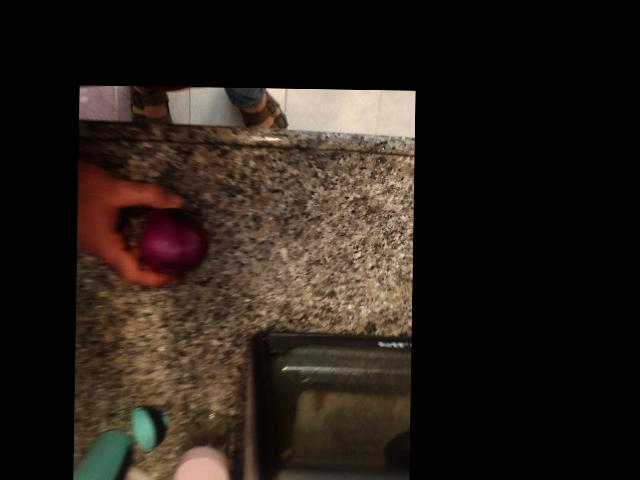onion: (337, 269, 405, 328)
